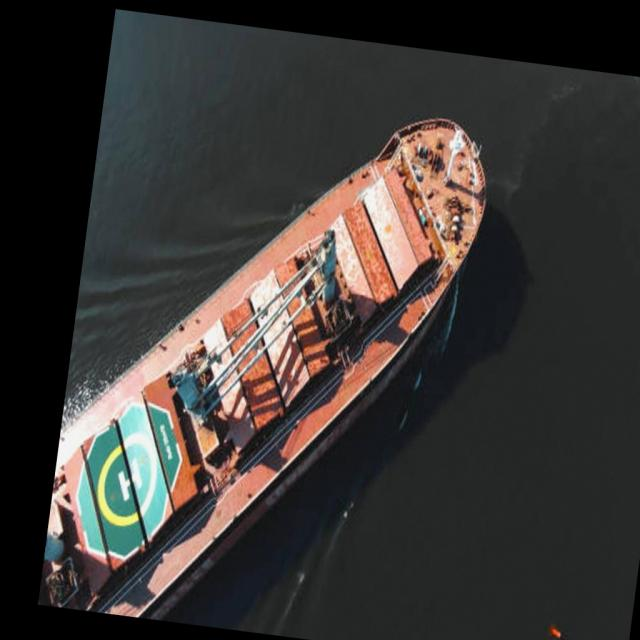helipad: (92, 428, 160, 529)
